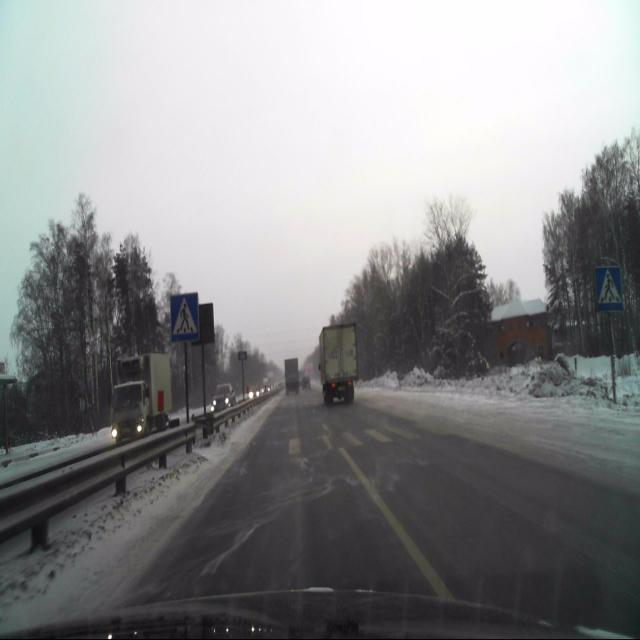object: (594, 267, 624, 312), (608, 315, 618, 404), (183, 343, 190, 422)
road sign: (169, 292, 198, 340)
